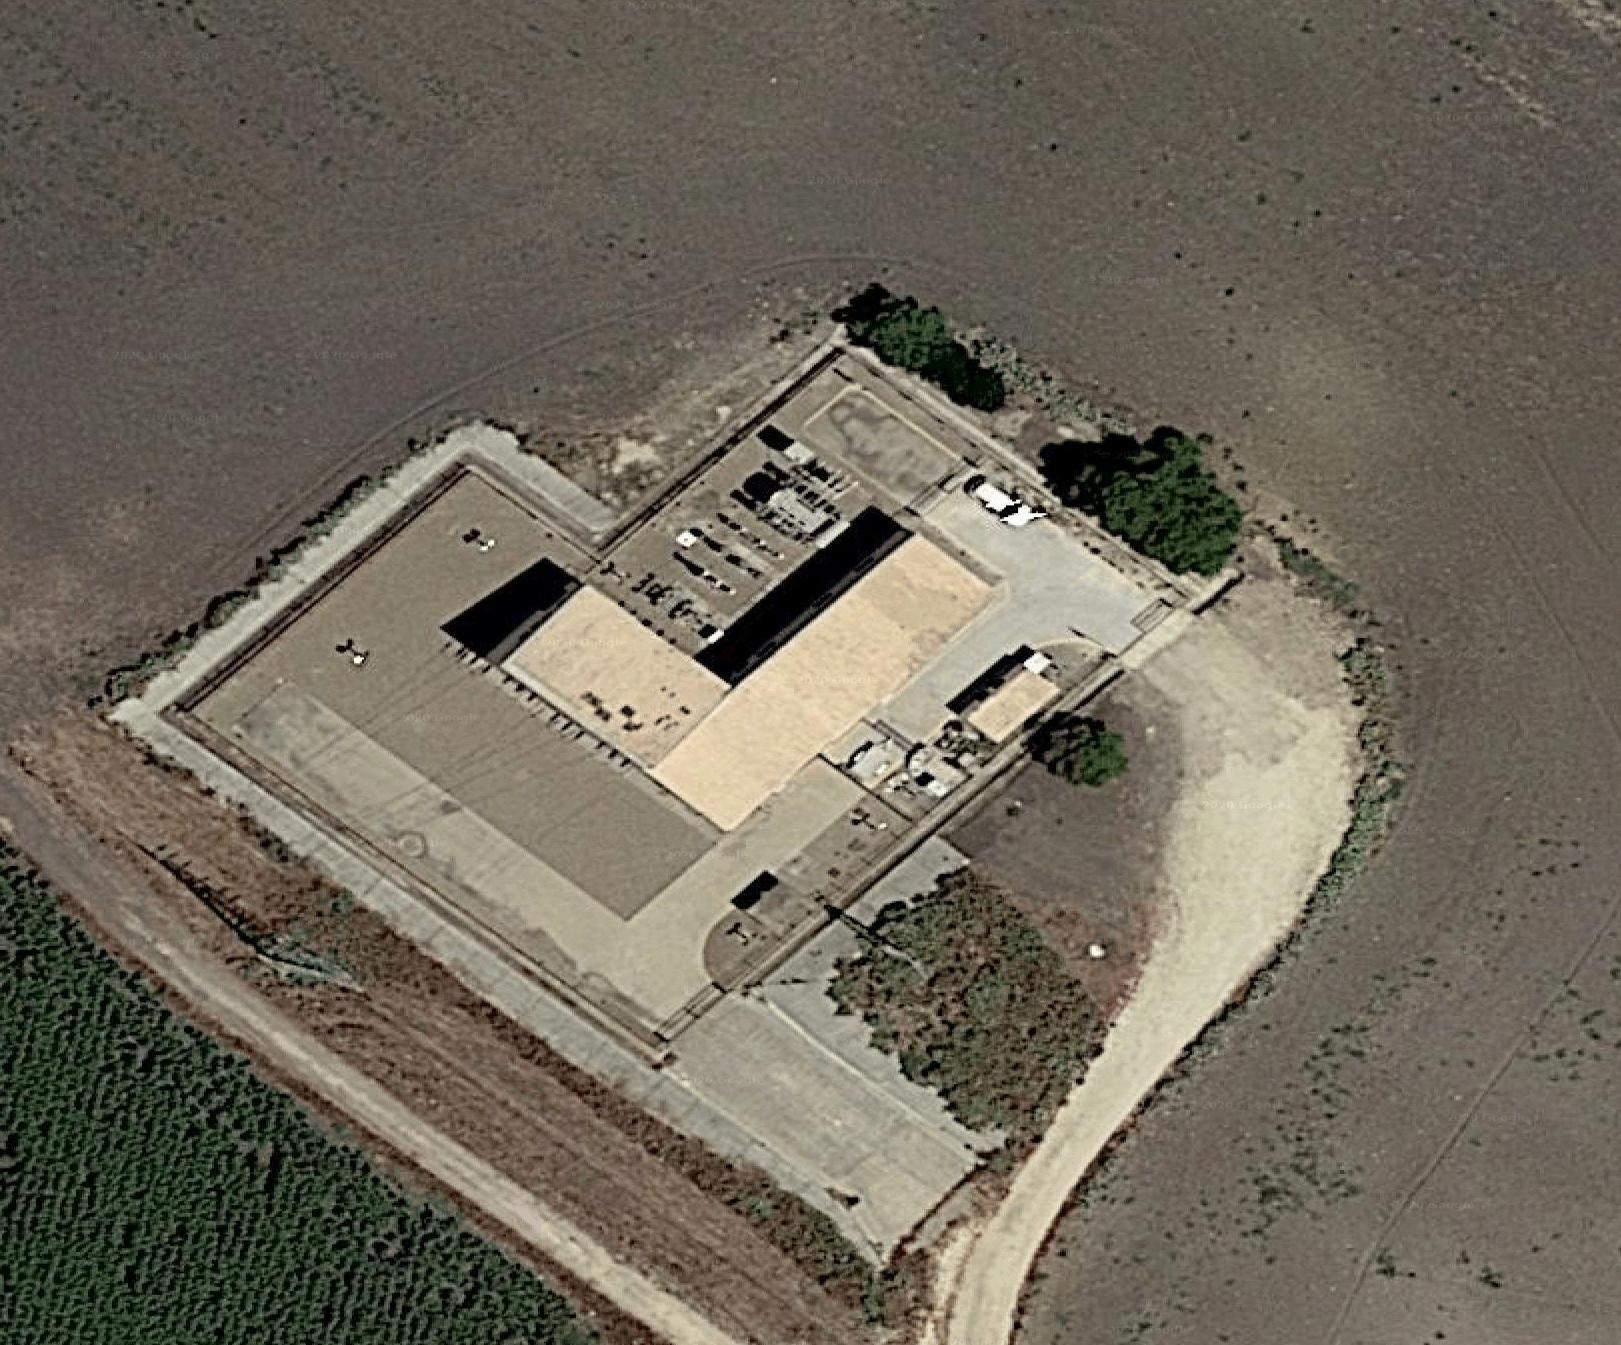substation: (588, 419, 862, 662)
